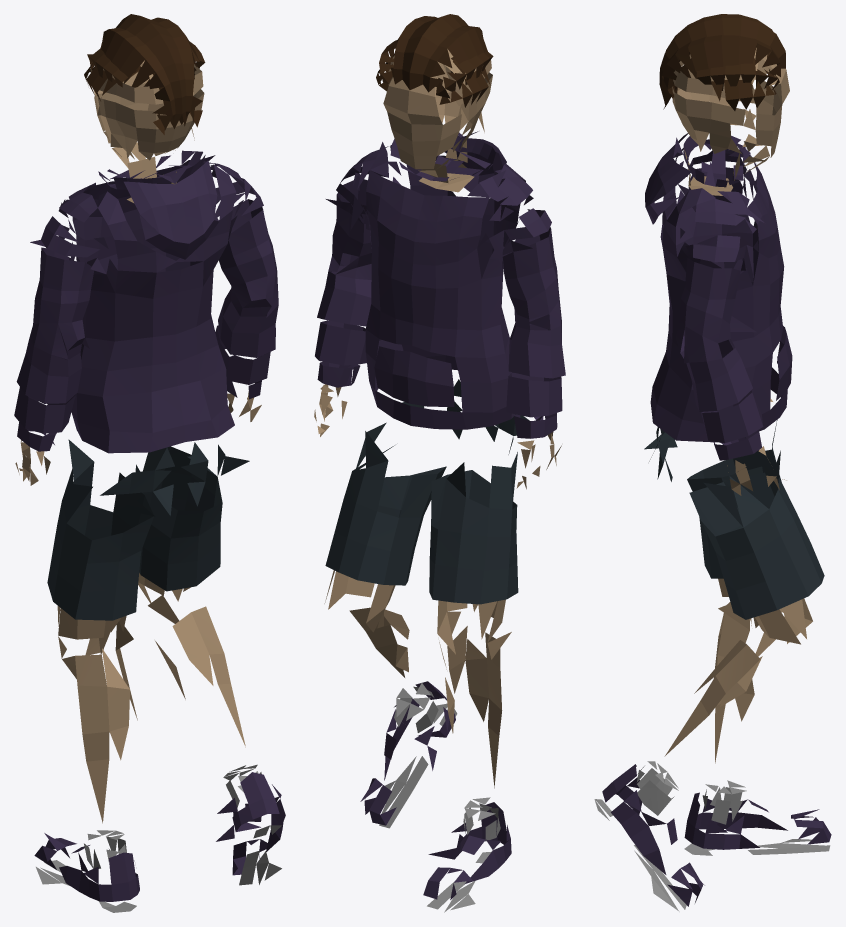
Rendered from person_11_w1.fbx.
The picture shows the model from 3 angles, left to right: view 1: azimuth 30°, elevation 25°; view 2: azimuth 150°, elevation 25°; view 3: azimuth 270°, elevation 25°; orthographic projection. The views are drawn at different scales.
Parts seen in each view (by area): view 1: Casual_Feet; view 2: Casual_Feet; view 3: Casual_Feet.
Boxes of the visible parts, x1,y1,x2,y2 form: Casual_Feet: [14, 14, 285, 912]; Casual_Feet: [314, 14, 565, 912]; Casual_Feet: [594, 14, 831, 911].
Bounding box in the file's own units: 0.3003 × 1 × 0.2512.
